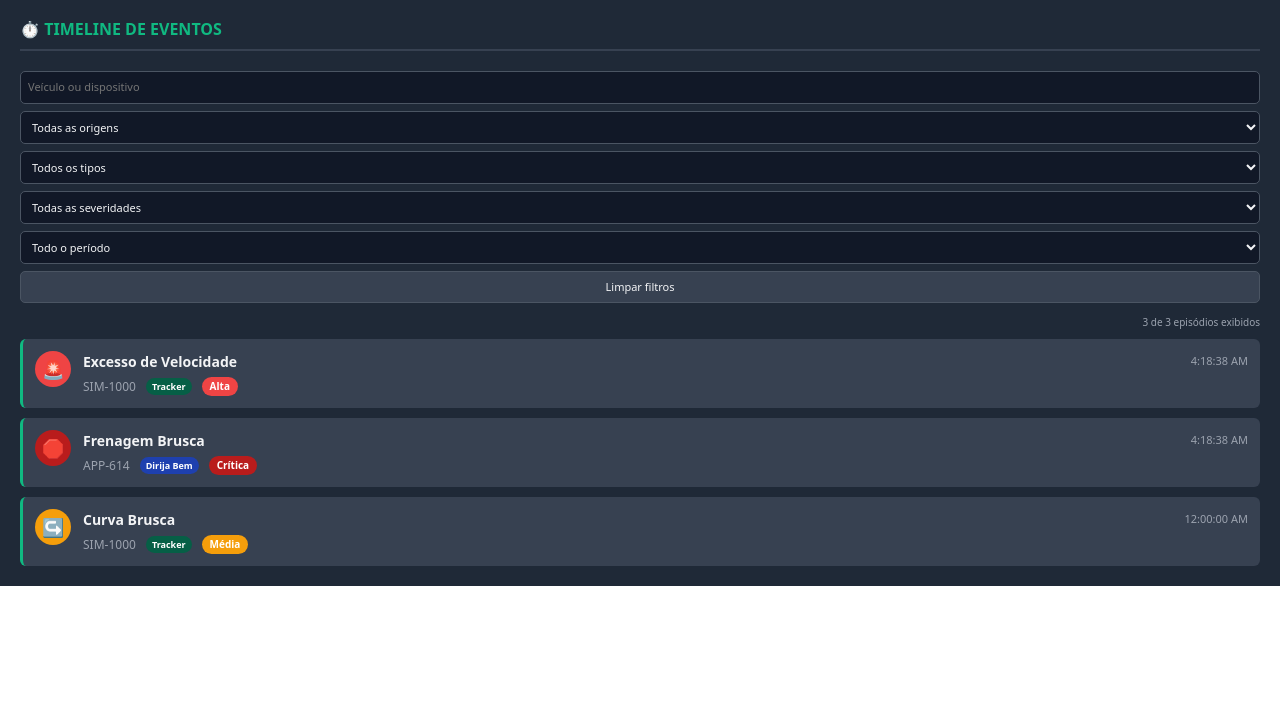
Test: filtra eventos por origem sem misturar Tracker e Dirija Bem
Expected: the text "3 de 3 episódios exibidos" is shown, top-left (1142, 315), bottom-right (1260, 329)
Select "Dirija Bem" in the dropdown named "Filtrar por origem". click: (640, 127)
box: top-left (20, 111), bottom-right (1260, 144)
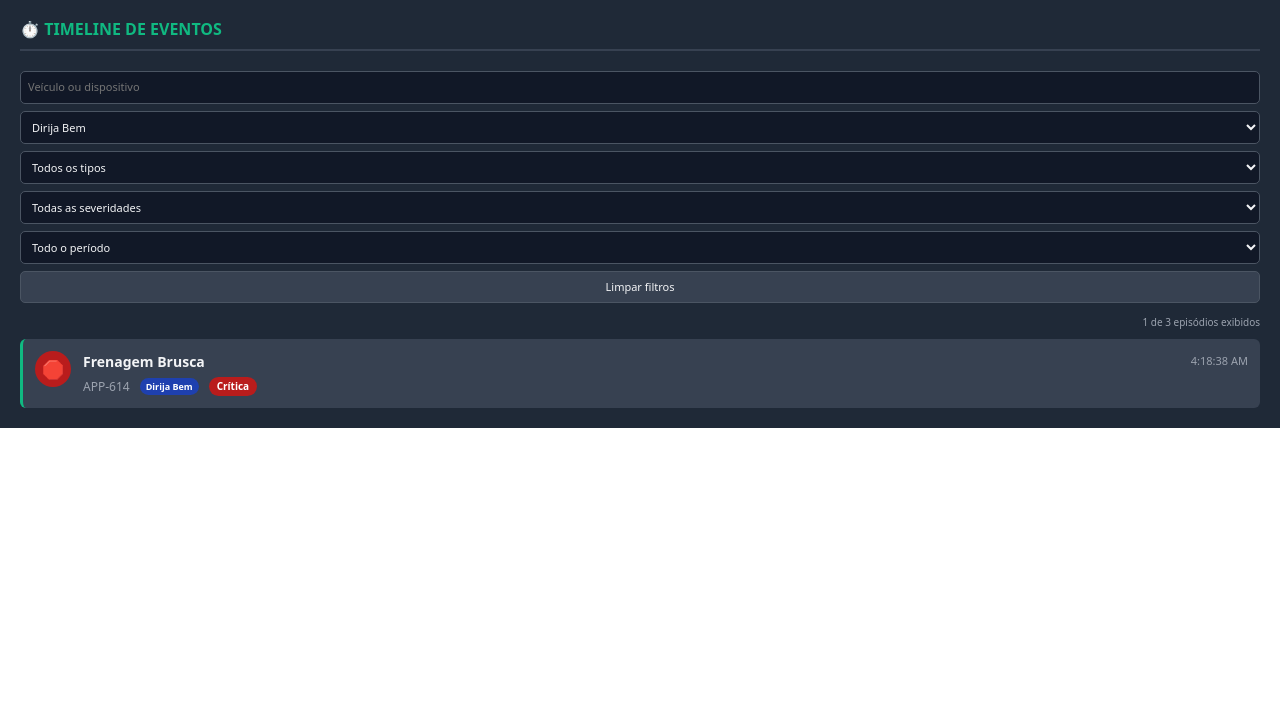
Expected: the text "APP-614" is shown, top-left (83, 378), bottom-right (130, 396)
Now the text "1 de 3 episódios exibidos" is shown, box top-left (1142, 315), bottom-right (1260, 329)
Now the button "SIM-1000" is gone
